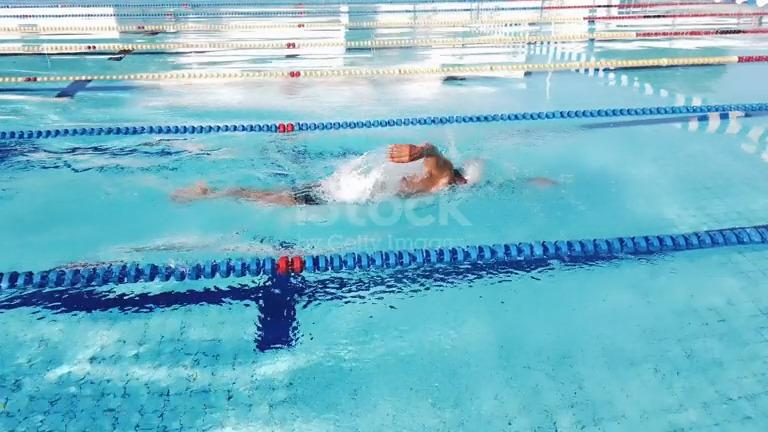Swimming: (167, 139, 558, 211)
